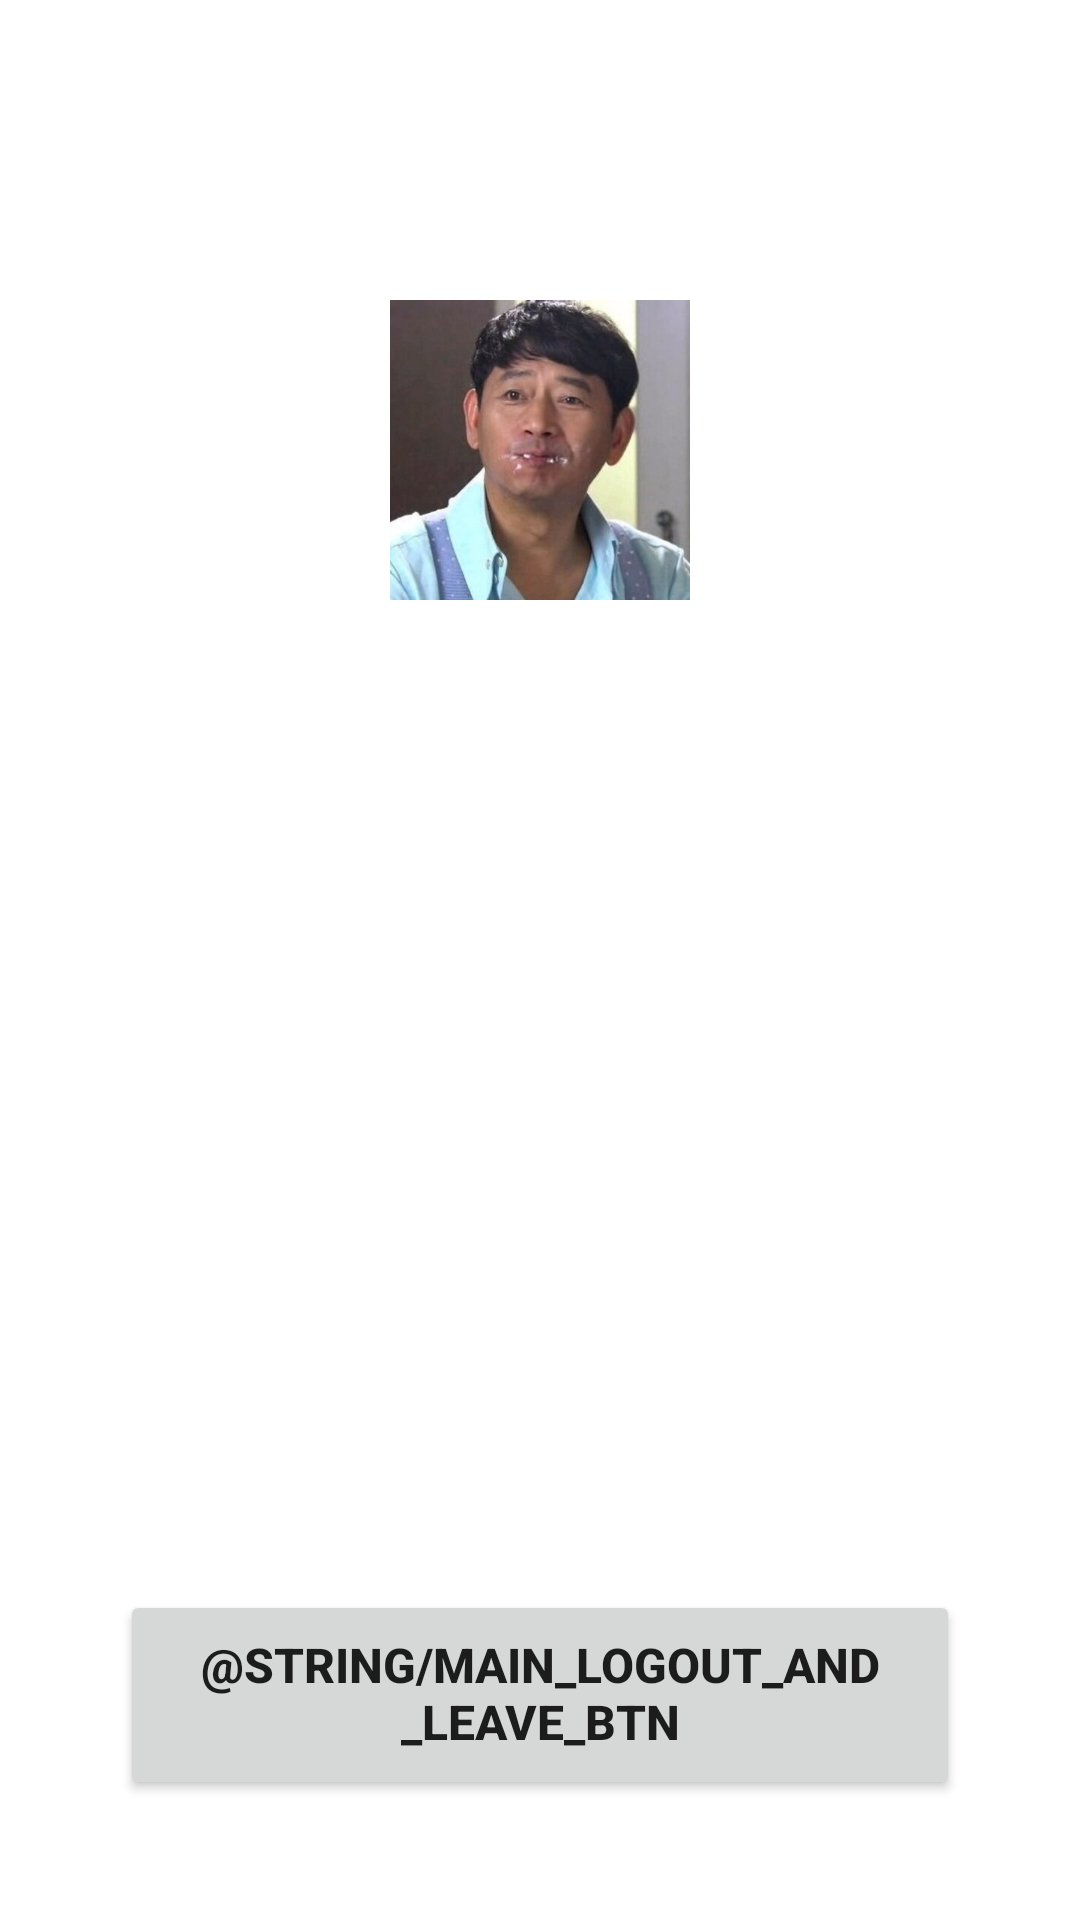

Icons on this 1080w x 1920h Android screen, each with the point to tap as (x,y):
profile: (540,450)
